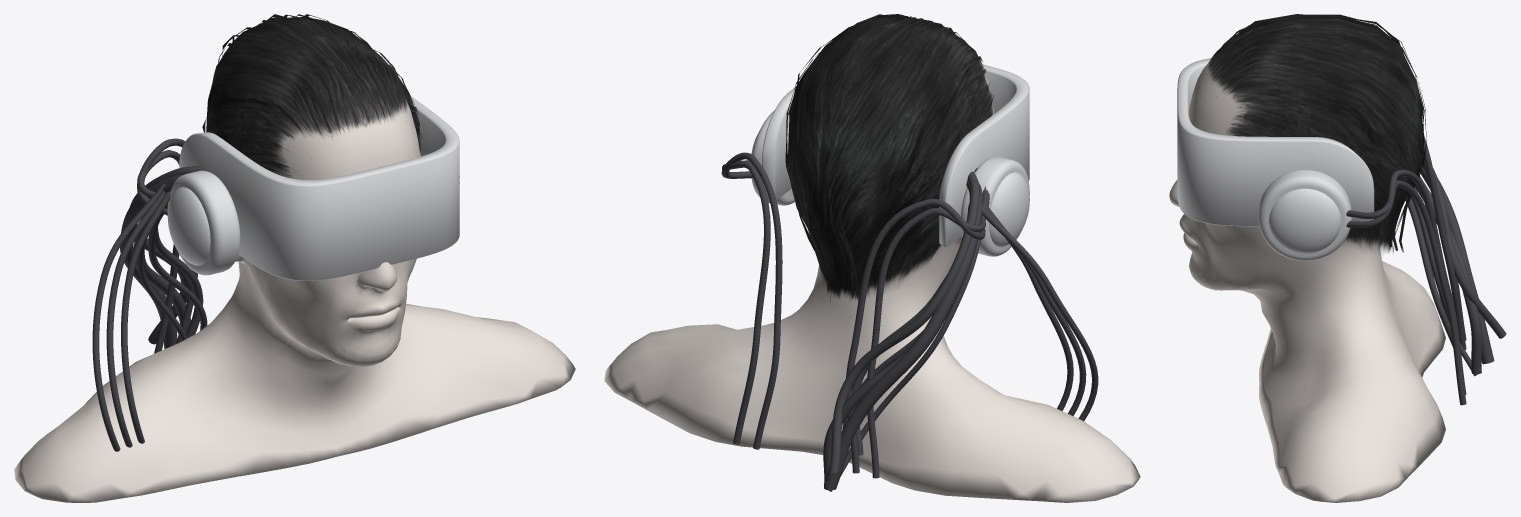
The model's file is courier-head.glb.
The picture shows the model from 3 angles, left to right: view 1: azimuth 30°, elevation 25°; view 2: azimuth 150°, elevation 25°; view 3: azimuth 270°, elevation 25°; orthographic projection. The views are drawn at different scales.
Parts seen in each view (by area): view 1: Head, Visor, Hair, VisorPod, VisorPodCap, CableLoop.002, CableLoop.001, CableLoop, CablePort, CableVisor.001, CablePort.002, CablePort.003 (+4 smaller); view 2: Head, Hair, Visor, CablePort, CablePort.001, CableVisor.002, CableVisor, CableVisor.003, CableVisor.001, VisorPodCap, VisorPod, CableLoop.002 (+6 smaller); view 3: Head, Hair, Visor, VisorPodCap.001, VisorPod.001, CableVisor.003, CableVisor.002, CableVisor, CablePort.001, CablePort.005, CablePort, CablePort.003 (+1 smaller).
Boxes of the visible parts, x1,y1,x2,y2 form: Head: (14,100,575,502); Visor: (179,95,459,280); Hair: (202,14,422,177); VisorPod: (167,170,240,275); VisorPodCap: (167,187,210,265); CableLoop.002: (92,183,165,451); CableLoop.001: (106,184,167,447); CableLoop: (121,191,170,443); CablePort: (120,174,184,348); CableVisor.001: (137,150,180,353); CablePort.002: (155,170,207,338); CablePort.003: (148,203,207,330); Head: (604,69,1140,502); Hair: (785,14,993,301); Visor: (762,64,1029,247); CablePort: (824,180,982,489); CablePort.001: (829,171,979,473); CableVisor.002: (721,152,782,449); CableVisor: (846,198,985,473); CableVisor.003: (722,160,770,444); CableVisor.001: (867,208,985,478); VisorPodCap: (989,172,1029,247); VisorPod: (960,156,1029,256); CableLoop.002: (981,206,1098,420); Head: (1169,56,1445,502); Hair: (1207,14,1426,252); Visor: (1177,58,1374,226); VisorPodCap.001: (1269,188,1341,253); VisorPod.001: (1258,169,1351,260); CableVisor.003: (1346,180,1466,405); CableVisor.002: (1346,169,1466,395); CableVisor: (1423,133,1466,349); CablePort.001: (1421,160,1506,338); CablePort.005: (1415,176,1481,374); CablePort: (1420,167,1494,364); CablePort.003: (1405,196,1453,347).
Bounding box in the file's own units: 0.5198 × 0.3736 × 0.3109.
Materials: 7 (1 with a texture image).
